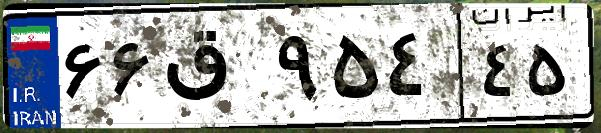4: (385, 28, 445, 110), (475, 38, 525, 113)
5: (330, 28, 385, 110), (525, 38, 570, 115)
6: (57, 26, 110, 100), (110, 28, 158, 98)
9: (270, 28, 330, 110)
ق: (158, 20, 270, 120)
